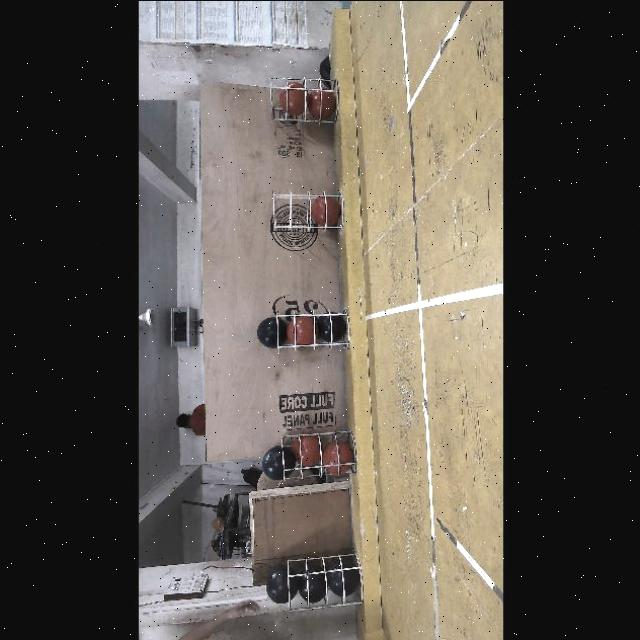P: (262, 444, 296, 481), (326, 559, 359, 593), (258, 315, 287, 349), (267, 571, 297, 603), (299, 572, 327, 602), (317, 314, 347, 342)
R: (321, 441, 351, 473), (292, 433, 322, 465), (308, 86, 336, 114), (312, 197, 340, 225), (280, 82, 306, 112), (290, 314, 314, 346)
S: (282, 553, 368, 609), (277, 424, 359, 480), (267, 304, 351, 352), (270, 74, 336, 128), (269, 190, 345, 234)
